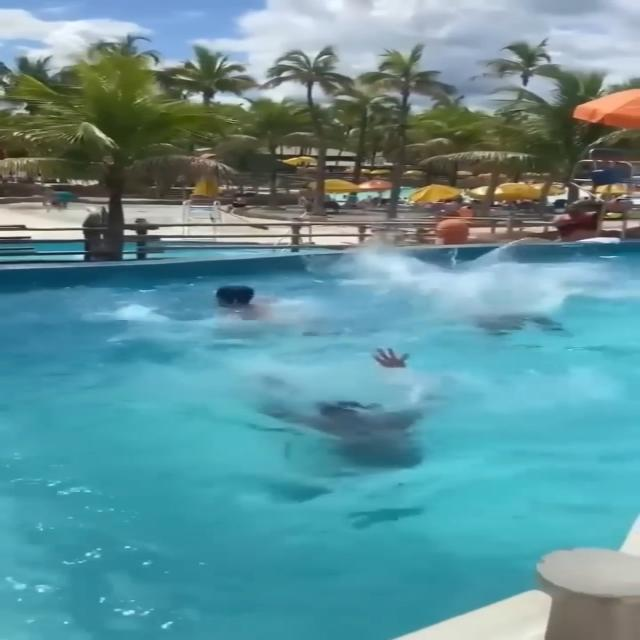Drowning: (242, 362, 438, 472)
Swimming: (208, 278, 300, 334)
